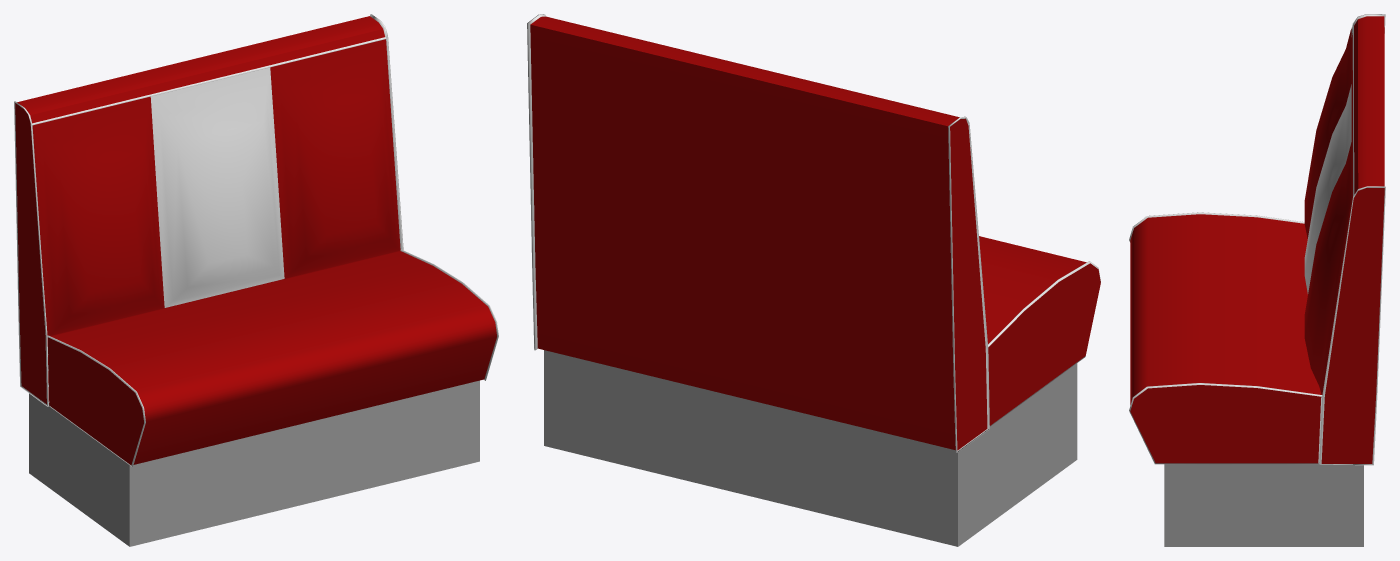
File: sofa_LP.fbx
3 views of the same model, side by side, from view 1: azimuth 30°, elevation 25°; view 2: azimuth 150°, elevation 25°; view 3: azimuth 270°, elevation 25° (orthographic). The views are drawn at different scales.
Visible parts, largest first — view 1: sofa_cushion1_pCube13; view 2: sofa_cushion1_pCube13; view 3: sofa_cushion1_pCube13.
Boxes of the visible parts, x1,y1,x2,y2 form: sofa_cushion1_pCube13: [14, 14, 498, 546]; sofa_cushion1_pCube13: [527, 14, 1100, 546]; sofa_cushion1_pCube13: [1129, 14, 1385, 546].
Size of the model in its own units: 19.37 by 18.9 by 12.17.
